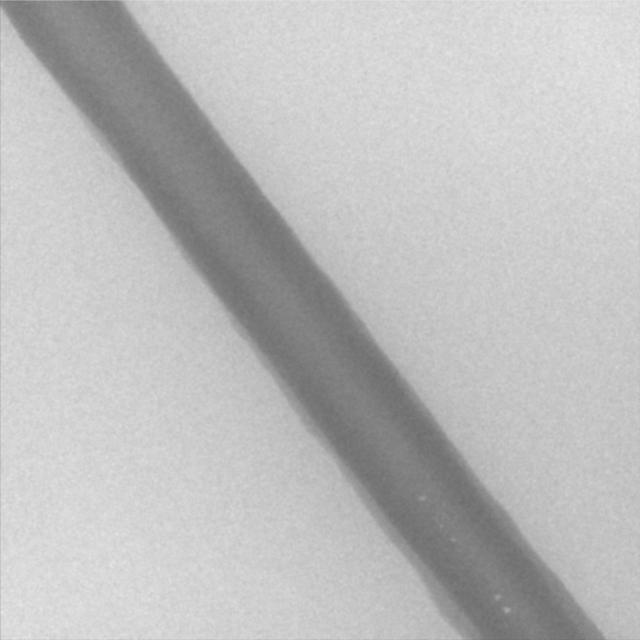air hole: (417, 493, 427, 503), (502, 606, 512, 615), (493, 592, 501, 603)
